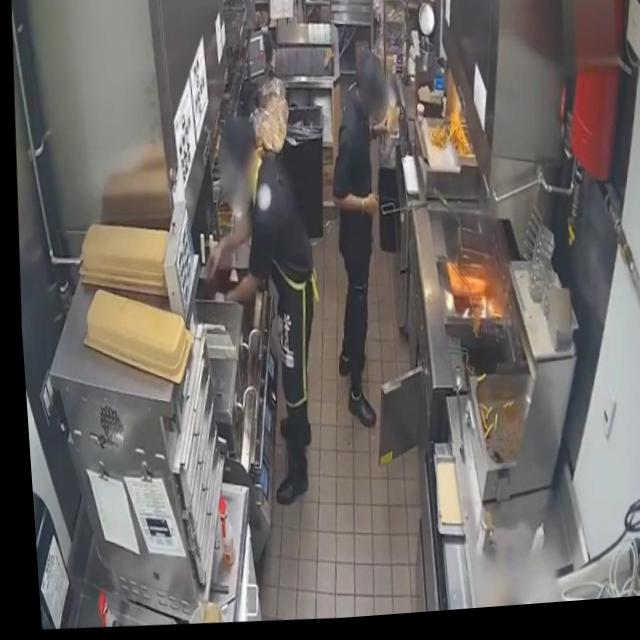fire: (474, 301, 491, 327)
